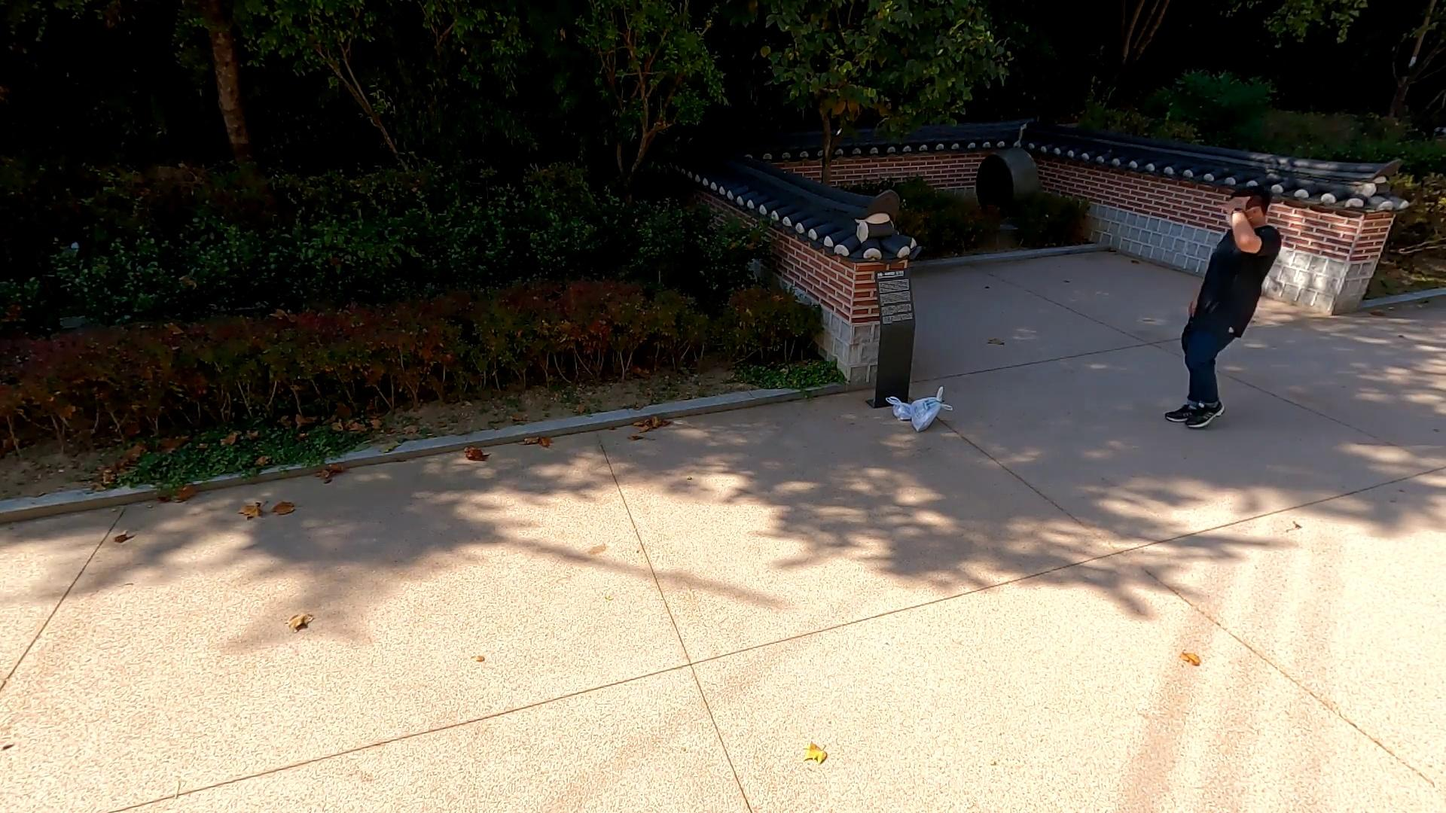person: (1169, 180, 1287, 441)
trash: (909, 385, 952, 434), (888, 388, 923, 427)
